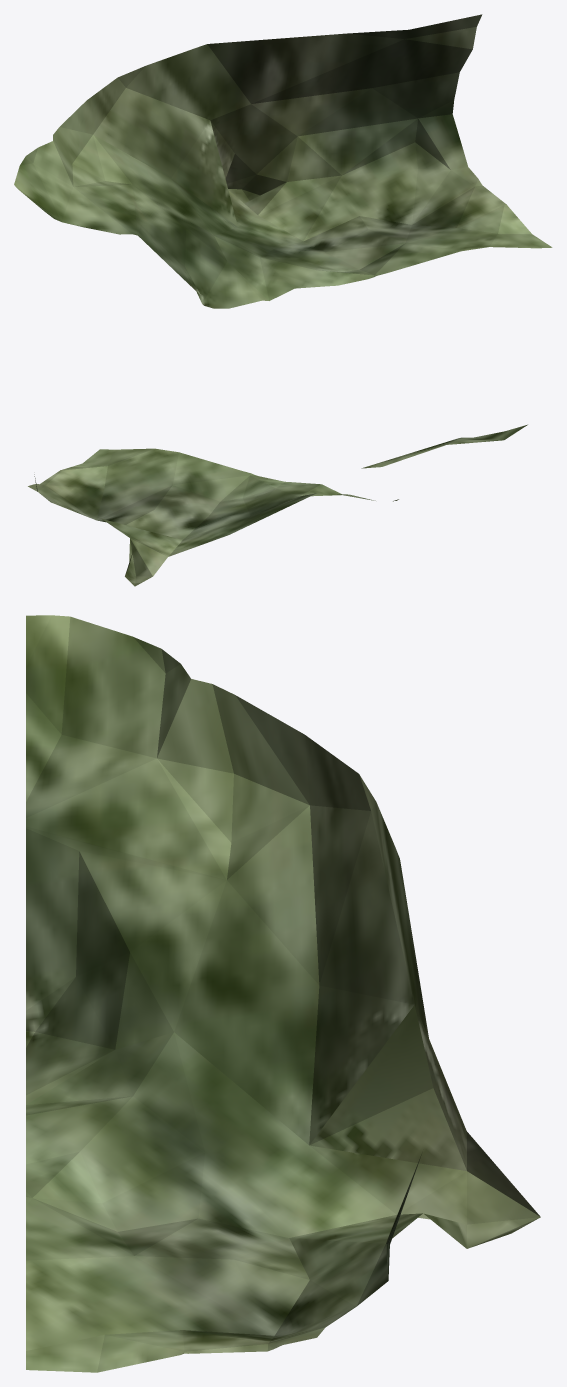
3 views of the same model, one above another, from view 1: azimuth 30°, elevation 25°; view 2: azimuth 150°, elevation 25°; view 3: azimuth 270°, elevation 25° (orthographic). The views are drawn at different scales.
Size of the model in its own units: 2.06 by 0.7296 by 1.02.
Materials: 1 (1 with a texture image).
